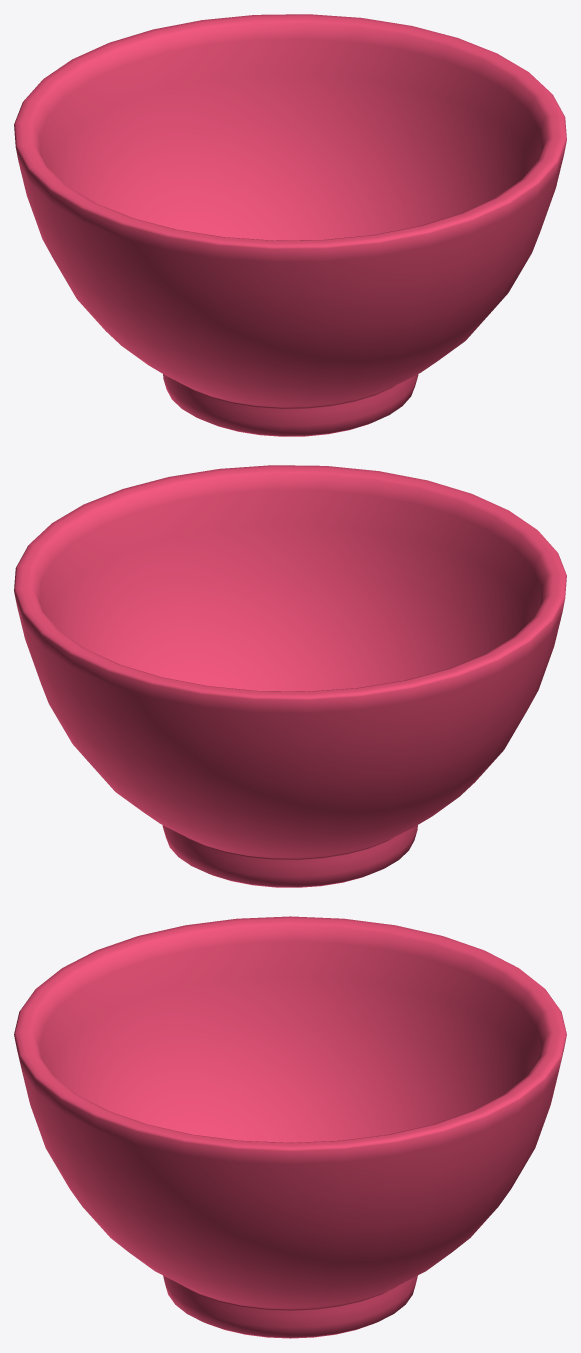
File: bowl.gltf
3 renders of one model, top to bottom at view 1: azimuth 30°, elevation 25°; view 2: azimuth 150°, elevation 25°; view 3: azimuth 270°, elevation 25°, orthographic.
Visible parts, largest first — view 1: Sphere; view 2: Sphere; view 3: Sphere.
Part boxes in pixels (bbox=[...]): Sphere: bbox=[14, 14, 566, 436]; Sphere: bbox=[14, 465, 566, 887]; Sphere: bbox=[14, 916, 566, 1338].
Size of the model in its own units: 2.12 by 1.09 by 2.12.
